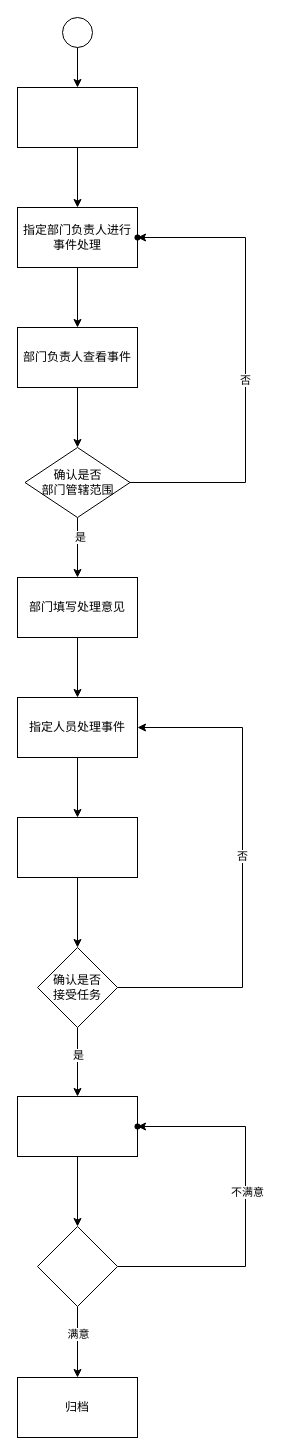
This 281x1455 diagram has some shape labels left out. Here are the shapes that lost their labels. From the top down, the box of each, then its label:
(16, 86, 138, 148): 监管人员填写事件详情
(16, 816, 138, 878): 人员查看事件详情
(16, 1096, 138, 1156): 处理事件并填写处理结果
(36, 1226, 118, 1306): 监管人员审 核处理结果
